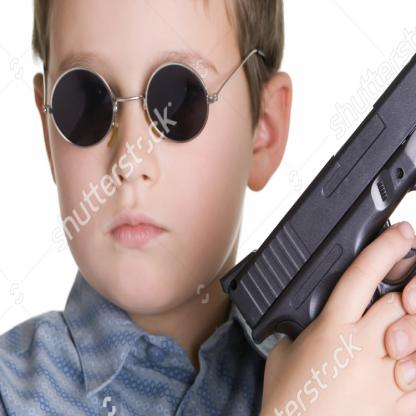gun: (214, 27, 416, 415)
